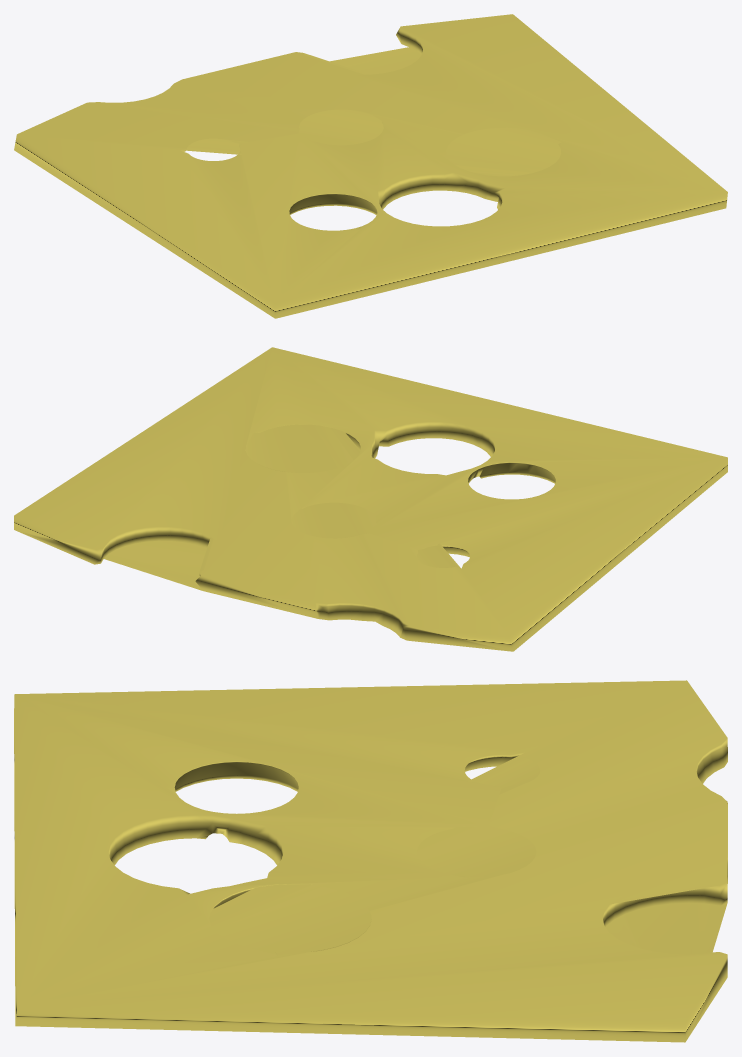
Rendered from LBSR_Cheese_slice.fbx.
3 views of the same model, one above another, from view 1: azimuth 30°, elevation 25°; view 2: azimuth 150°, elevation 25°; view 3: azimuth 270°, elevation 25° (orthographic). The views are drawn at different scales.
Parts seen in each view (by area): view 1: Cheese Slice; view 2: Cheese Slice; view 3: Cheese Slice.
Boxes of the visible parts, x1,y1,x2,y2 form: Cheese Slice: [14, 14, 727, 318]; Cheese Slice: [14, 347, 727, 651]; Cheese Slice: [14, 680, 727, 1042].
Bounding box in the file's own units: 2.21 × 0.0688 × 1.94.
